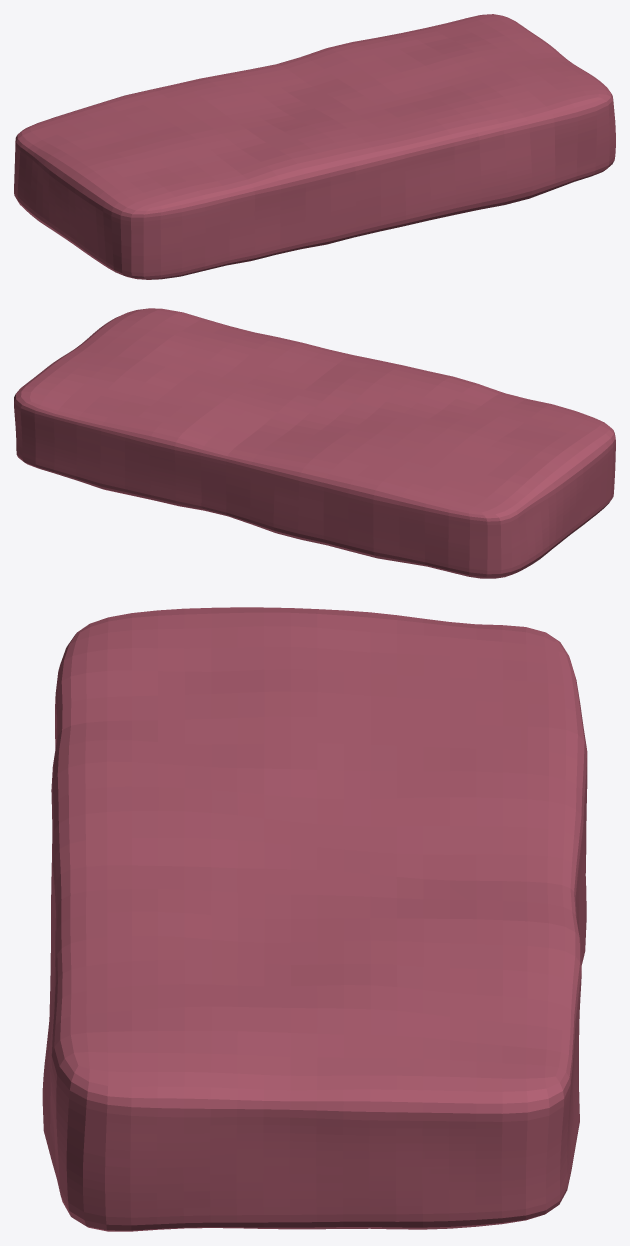
3 views of the same model, one above another, from view 1: azimuth 30°, elevation 25°; view 2: azimuth 150°, elevation 25°; view 3: azimuth 270°, elevation 25° (orthographic). The views are drawn at different scales.
Bounding box in the file's own units: 1.31 × 0.2229 × 0.6157.
